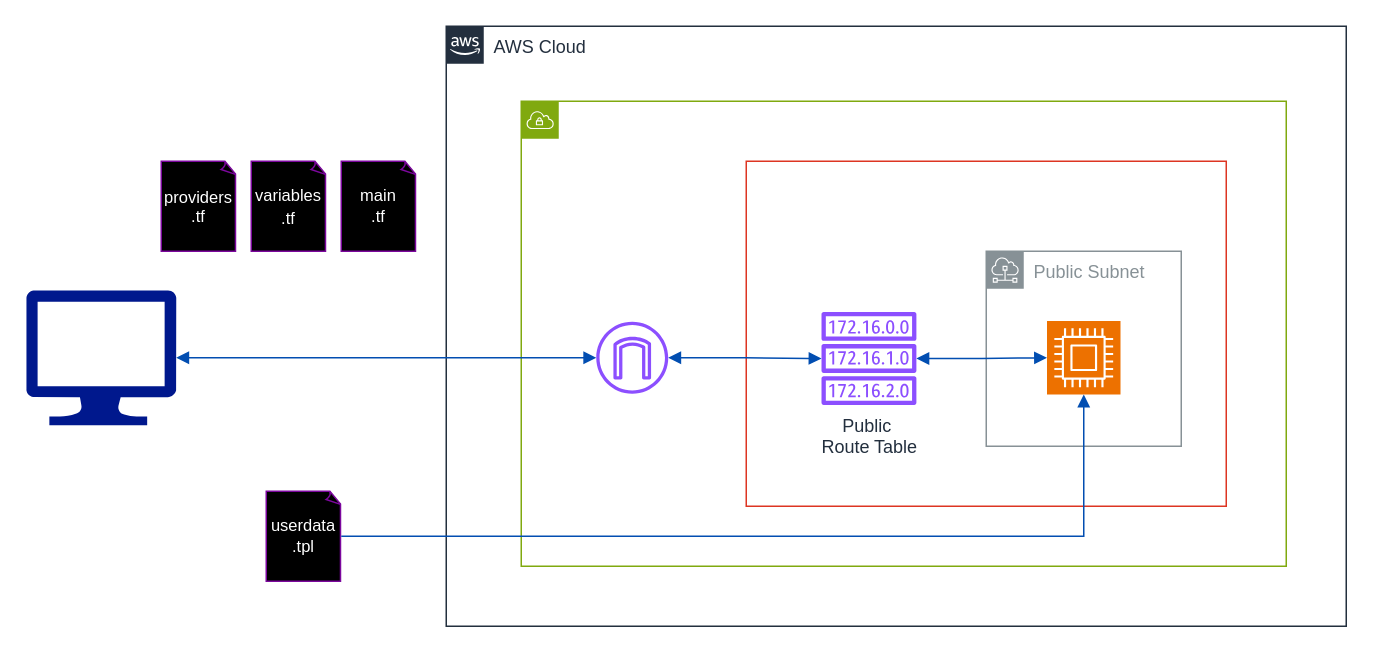
Image size: 1373x653. Some labels were removed from this diagram. Each missing label, with the box of its shape:
Internet gateway: (596, 321, 668, 393)
Public Security Group: (745, 160, 1226, 506)
Ubuntu: (1046, 320, 1120, 394)
VPC: (520, 100, 1286, 566)
